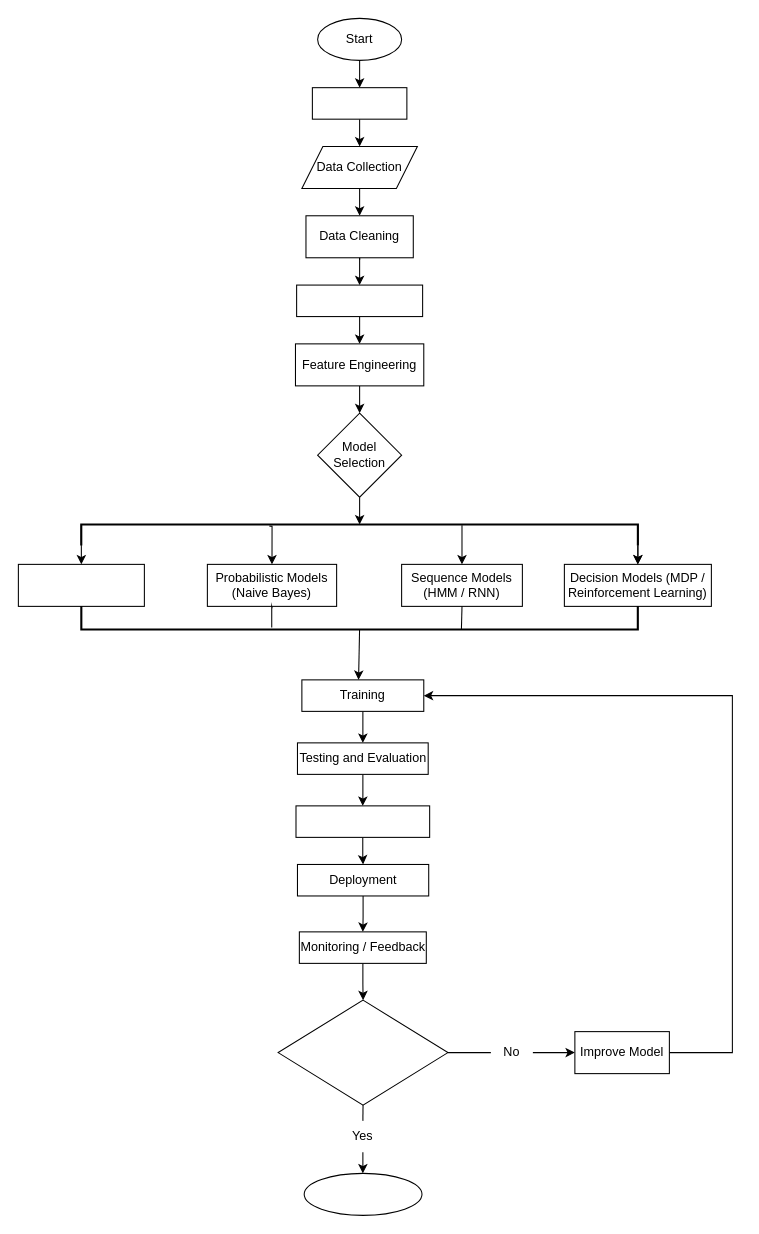
This 759x1234 diagram has some shape labels left out. The centre of each missing label's shape, as x and y in pixels:
"Data Preprocessing" belongs at point 359,300.
"End" belongs at point 362,1193.
"Evaluation Metrics" belongs at point 362,821.
"Is Model Performance Acceptable?" belongs at point 362,1052.
"Problem Statement" belongs at point 359,103.
"Search Model (A* Algorithm)" belongs at point 80,584.
